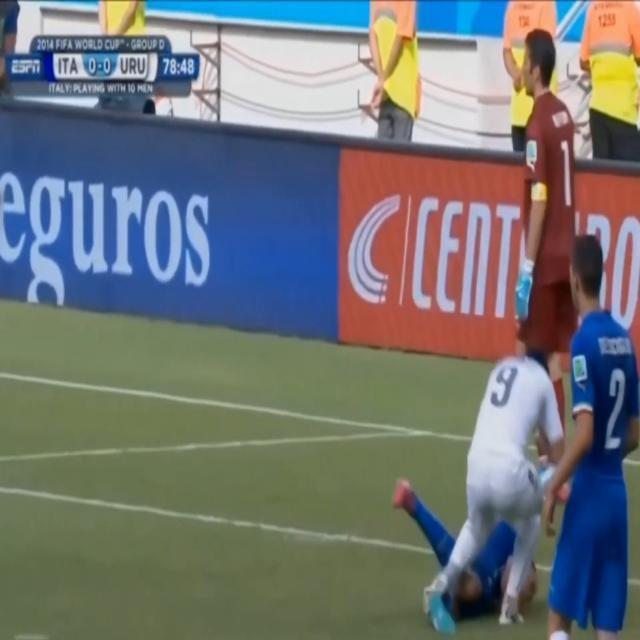player: (429, 348, 557, 633), (557, 241, 640, 640), (519, 27, 569, 357)
